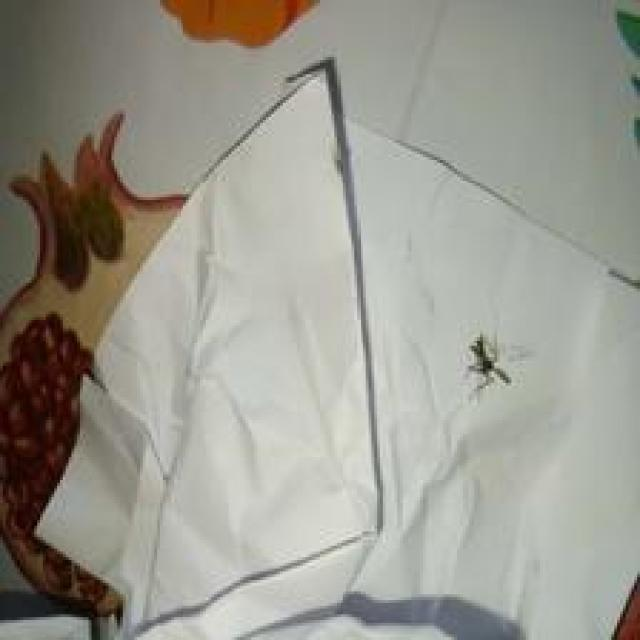Aedes albopictus: (466, 333, 511, 393)
